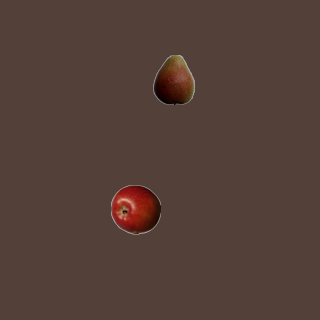Apple Braeburn: (110, 184, 160, 234)
Pear Forelle: (148, 54, 198, 104)
